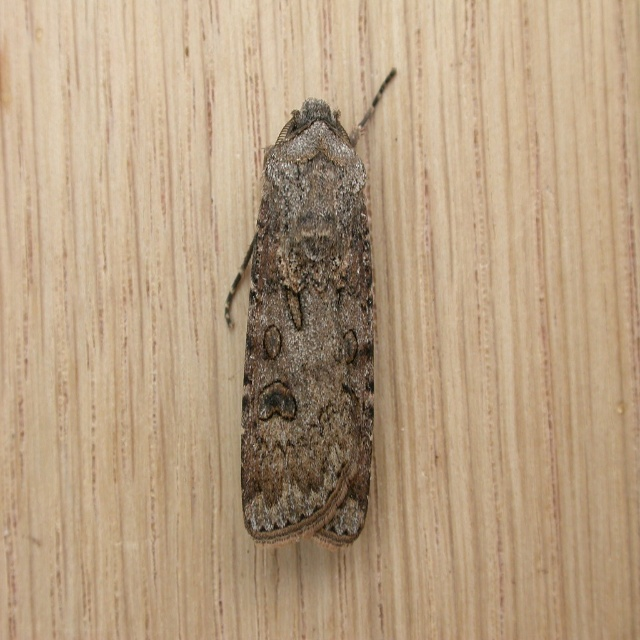Moths and butterflies: (223, 65, 400, 558)
